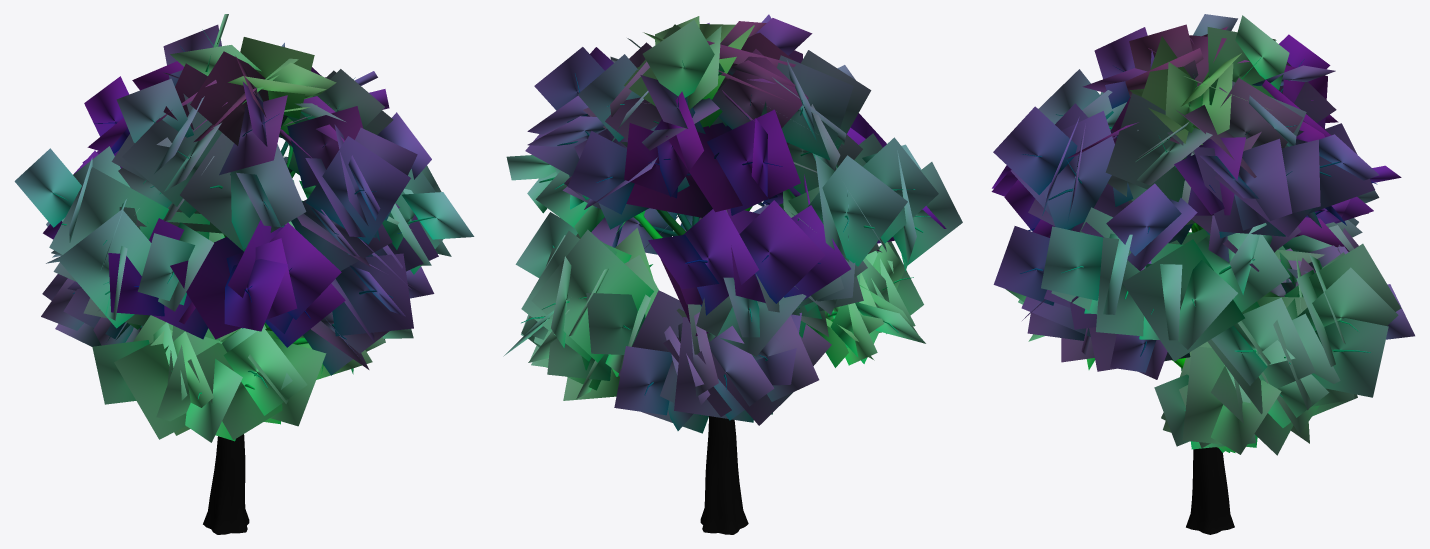
File: Small_Tree.fbx
3 renders of one model, left to right at view 1: azimuth 30°, elevation 25°; view 2: azimuth 150°, elevation 25°; view 3: azimuth 270°, elevation 25°, orthographic. The views are drawn at different scales.
Visible parts, largest first — view 1: Tree_1, Tree_0; view 2: Tree_1, Tree_0; view 3: Tree_1, Tree_0.
Part boxes in pixels (x1=…): Tree_1: x1=14, y1=14, x2=474, y2=442; Tree_0: x1=52, y1=29, x2=435, y2=534; Tree_1: x1=503, y1=14, x2=962, y2=433; Tree_0: x1=521, y1=60, x2=930, y2=534; Tree_1: x1=991, y1=14, x2=1414, y2=455; Tree_0: x1=1020, y1=40, x2=1377, y2=534.
Bounding box in the file's own units: 248 × 299 × 223.
